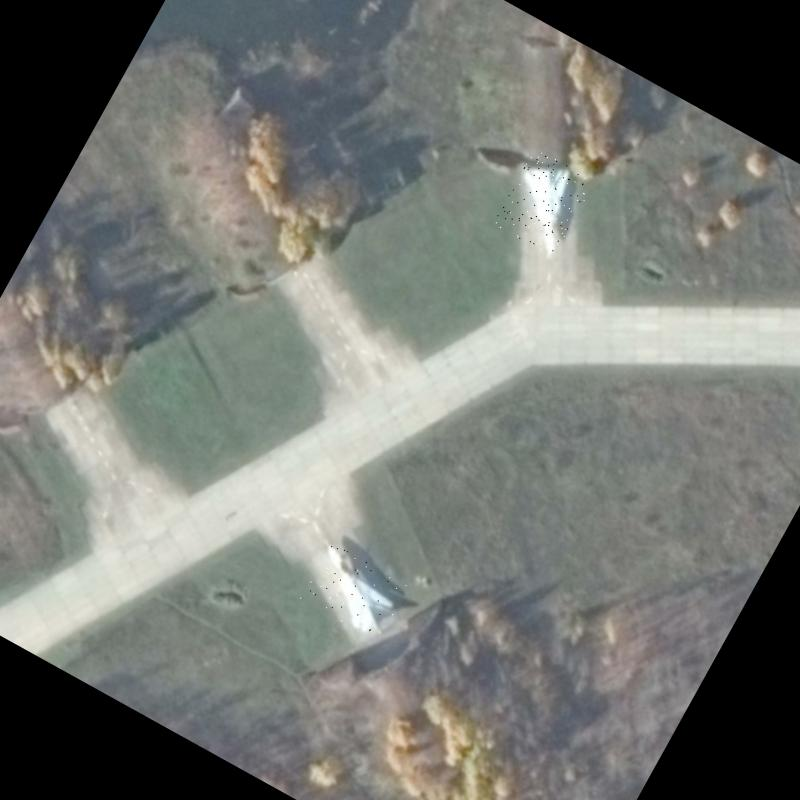A20: (296, 539, 409, 641), (492, 147, 595, 257)
